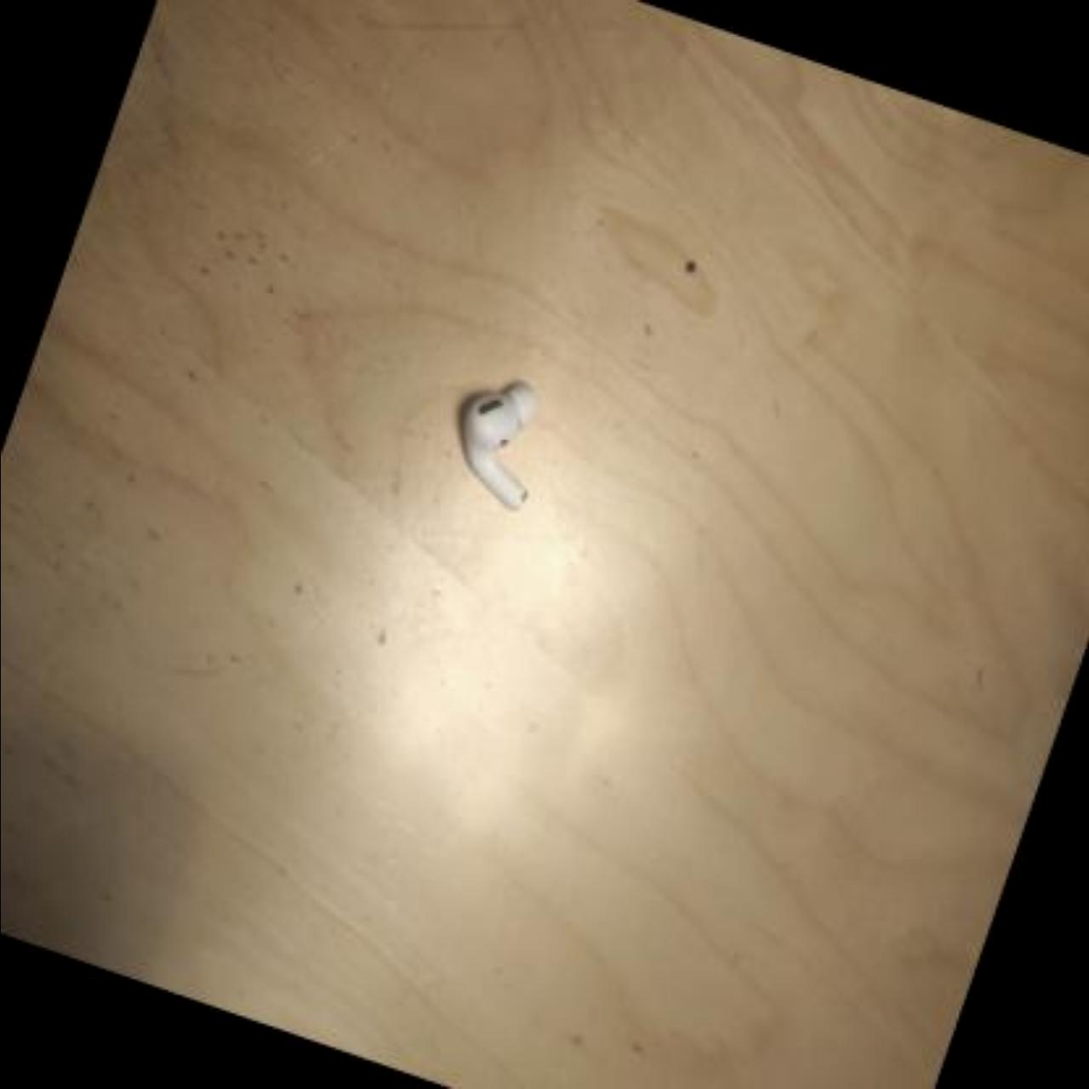Airpods_Units: (445, 364, 565, 513)
